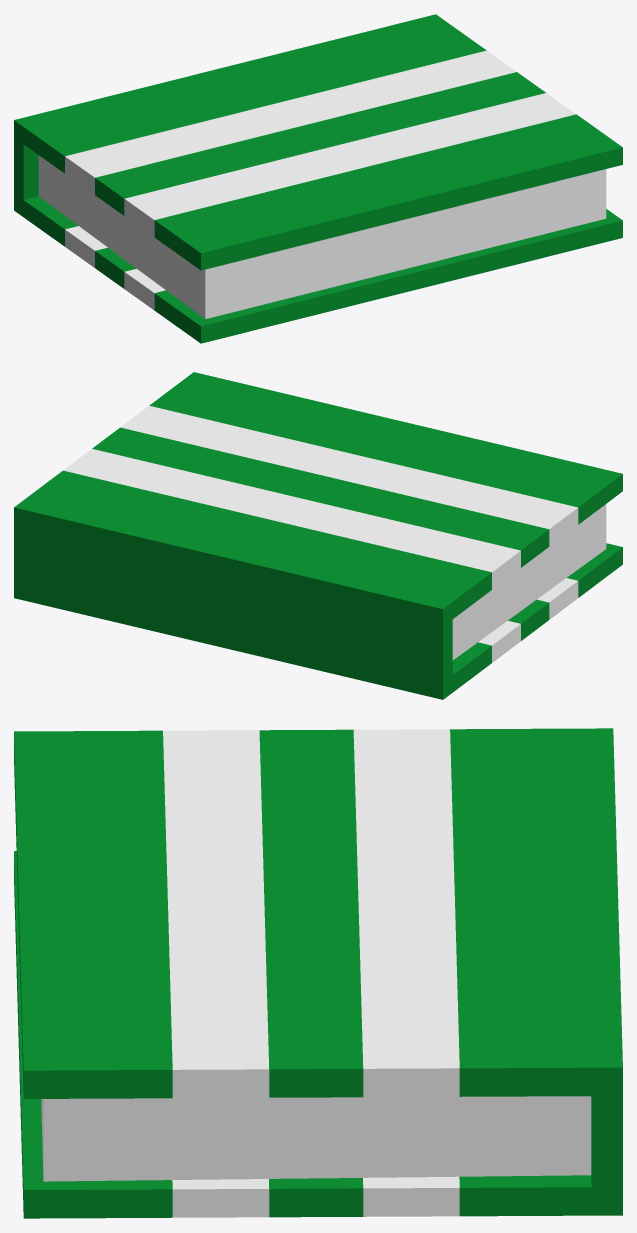
File: Book_8.fbx
3 views of the same model, one above another, from view 1: azimuth 30°, elevation 25°; view 2: azimuth 150°, elevation 25°; view 3: azimuth 270°, elevation 25° (orthographic). The views are drawn at different scales.
Visible parts, largest first — view 1: Book_8; view 2: Book_8; view 3: Book_8.
Boxes of the visible parts, x1,y1,x2,y2 form: Book_8: [14, 14, 622, 343]; Book_8: [14, 372, 622, 699]; Book_8: [14, 728, 622, 1218].
Bounding box in the file's own units: 0.2293 × 0.0462 × 0.1725.
